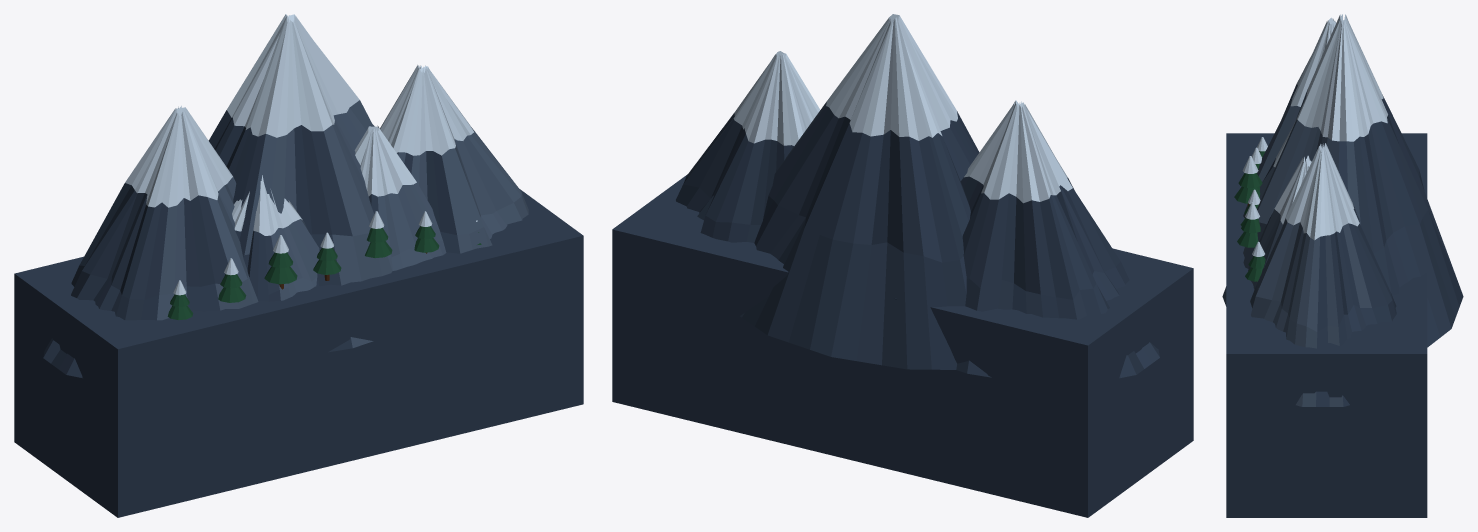
The model's file is mountain_bg.glb.
The picture shows the model from 3 angles, left to right: view 1: azimuth 30°, elevation 25°; view 2: azimuth 150°, elevation 25°; view 3: azimuth 270°, elevation 25°; orthographic projection. The views are drawn at different scales.
Parts seen in each view (by area): view 1: mountain_bg; view 2: mountain_bg; view 3: mountain_bg.
Part boxes in pixels (<box>): mountain_bg: <box>14,14,583,517</box>; mountain_bg: <box>612,14,1193,517</box>; mountain_bg: <box>1222,14,1463,517</box>.
Size of the model in its own units: 26.75 by 21.51 by 12.
